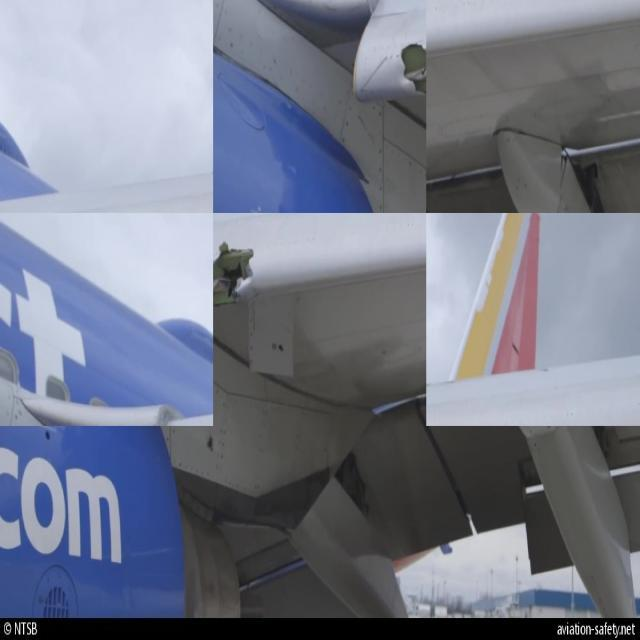crack: (213, 242, 255, 307), (401, 41, 431, 97)
